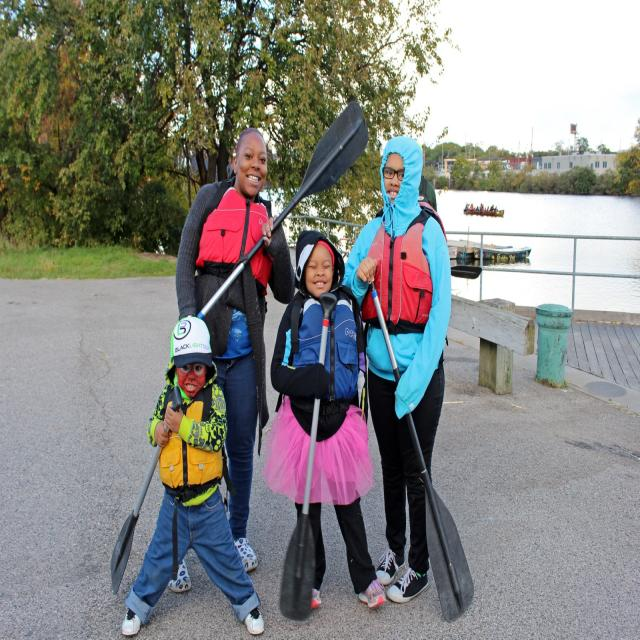body: (168, 127, 298, 596), (332, 134, 455, 606), (258, 225, 388, 614), (119, 311, 266, 639), (464, 201, 499, 216)
